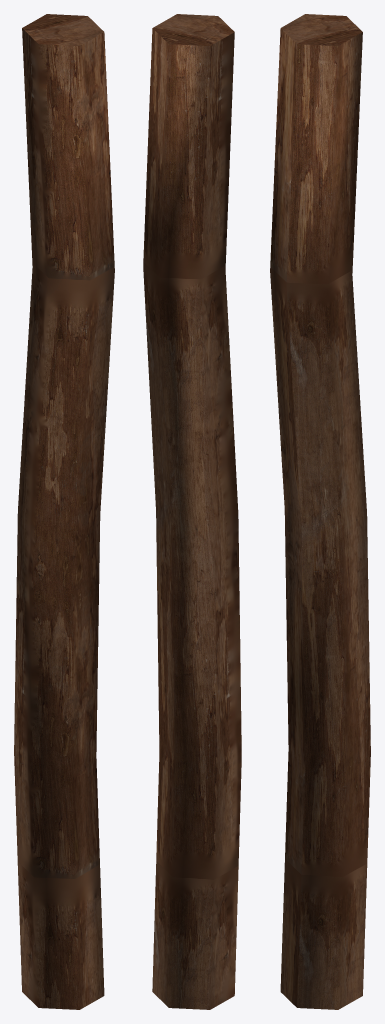
File: SM_CitP4.fbx
3 views of the same model, side by side, from view 1: azimuth 90°, elevation 25°; view 2: azimuth 210°, elevation 25°; view 3: azimuth 270°, elevation 25° (orthographic).
Visible parts, largest first — view 1: SM_Cit_4; view 2: SM_Cit_4; view 3: SM_Cit_4.
Boxes of the visible parts, left/top/right/bottom form: SM_Cit_4: left=14, top=14, right=114, bottom=1009; SM_Cit_4: left=143, top=14, right=241, bottom=1009; SM_Cit_4: left=270, top=14, right=370, bottom=1009.
Size of the model in its own units: 11.9 by 151 by 14.28.
